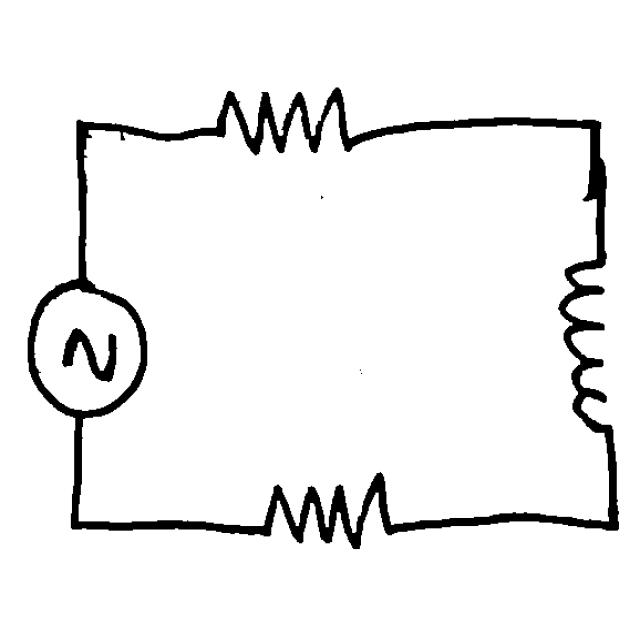ac: (15, 273, 163, 426)
inductor: (548, 249, 628, 452)
resistor: (207, 74, 370, 180), (250, 460, 401, 568)
